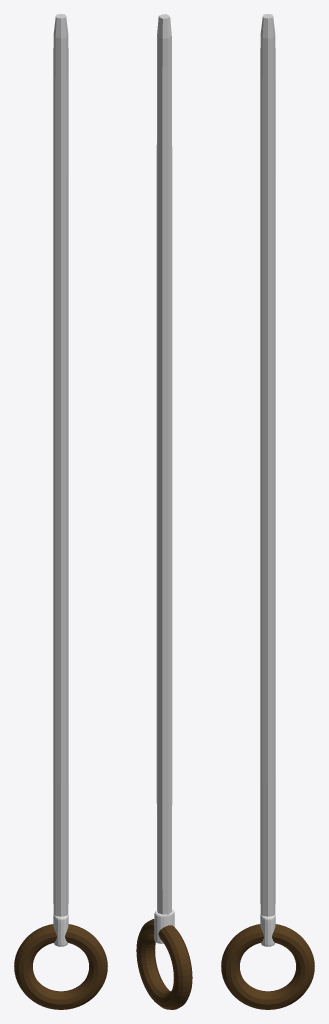
The picture shows the model from 3 angles, left to right: view 1: azimuth 90°, elevation 25°; view 2: azimuth 210°, elevation 25°; view 3: azimuth 270°, elevation 25°; orthographic projection.
Visible parts, largest first — view 1: Cube, Torus, Cube.001; view 2: Cube, Torus, Cube.001; view 3: Cube, Torus, Cube.001.
Part boxes in pixels (x1=…): Cube: x1=53, y1=14, x2=68, y2=916; Torus: x1=14, y1=924, x2=107, y2=1009; Cube.001: x1=53, y1=914, x2=68, y2=946; Cube: x1=156, y1=14, x2=172, y2=914; Torus: x1=136, y1=919, x2=192, y2=1009; Cube.001: x1=154, y1=909, x2=174, y2=943; Cube: x1=260, y1=14, x2=275, y2=916; Torus: x1=221, y1=924, x2=314, y2=1009; Cube.001: x1=260, y1=914, x2=275, y2=946.
Bounding box in the file's own units: 20.15 × 1033 × 88.35.
